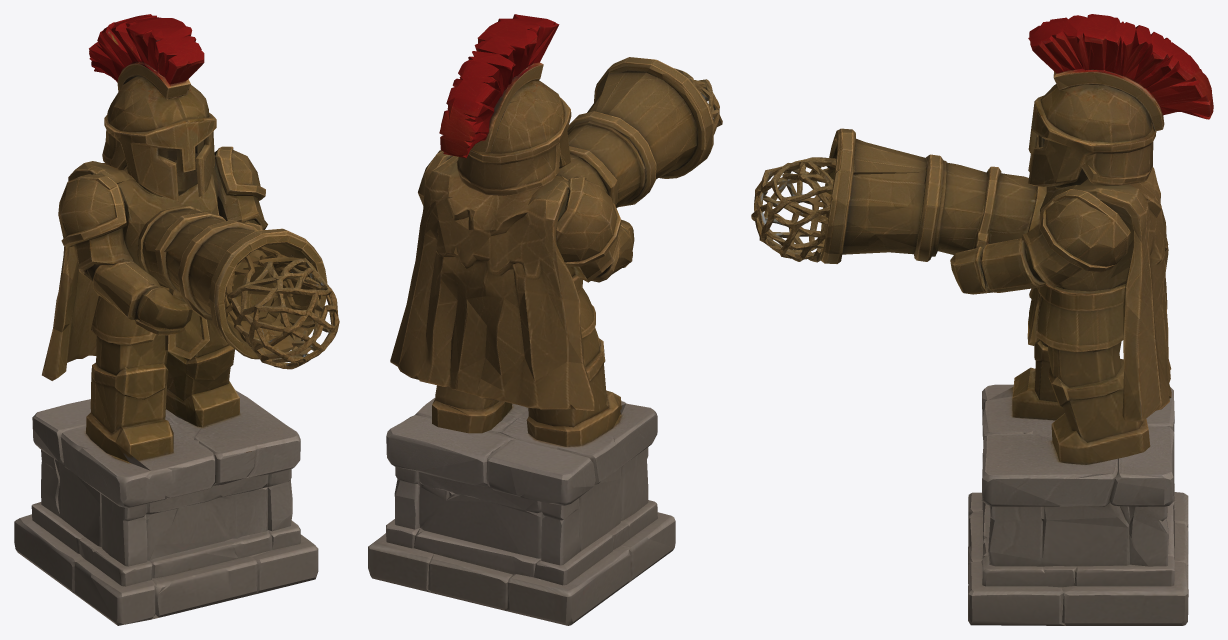
Rendered from net_statue.glb.
3 renders of one model, left to right at view 1: azimuth 30°, elevation 25°; view 2: azimuth 150°, elevation 25°; view 3: azimuth 270°, elevation 25°, orthographic. The views are drawn at different scales.
Visible parts, largest first — view 1: output_unwrapped; view 2: output_unwrapped; view 3: output_unwrapped.
Boxes of the visible parts, left/top/right/bottom form: output_unwrapped: left=14, top=14, right=339, bottom=625; output_unwrapped: left=368, top=14, right=722, bottom=625; output_unwrapped: left=751, top=14, right=1213, bottom=625.
Bounding box in the file's own units: 0.7497 × 1.9 × 1.44.
1 material, 1 textured.
